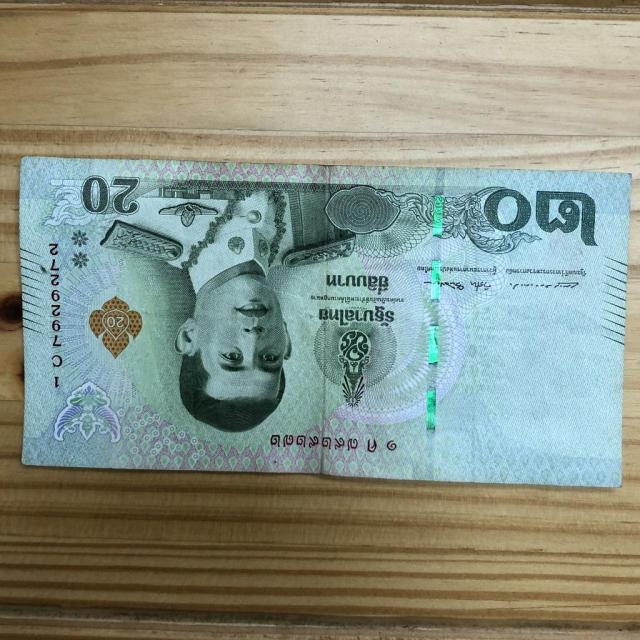THAI20: (19, 156, 631, 487)
